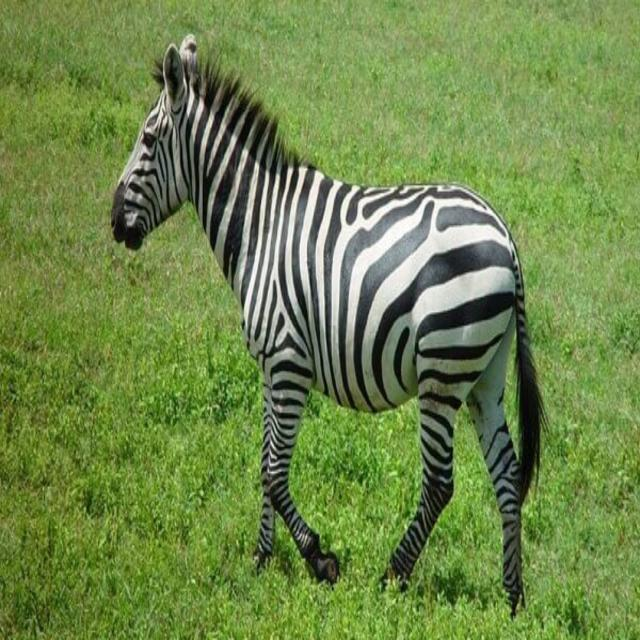Herbivorous: (108, 36, 548, 617)
